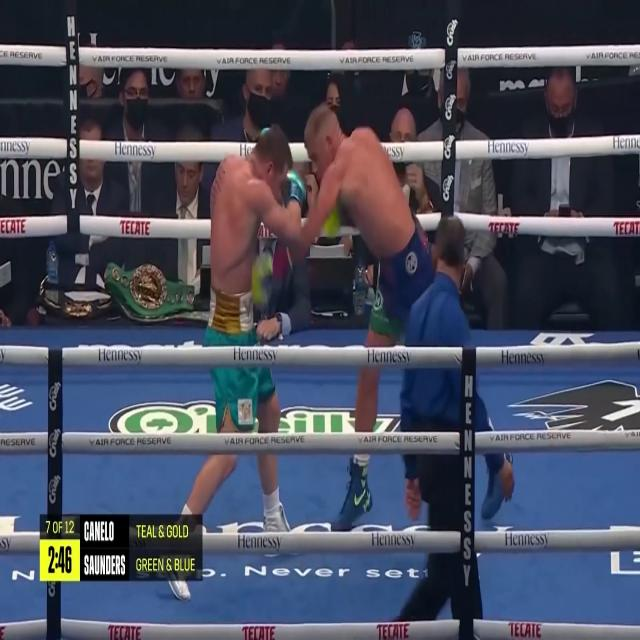boxer_1: (305, 104, 415, 260)
boxer_2: (210, 126, 292, 295)
gloves_1: (250, 247, 293, 301), (322, 200, 342, 236)
gloves_2: (280, 169, 305, 208), (261, 127, 269, 133)
